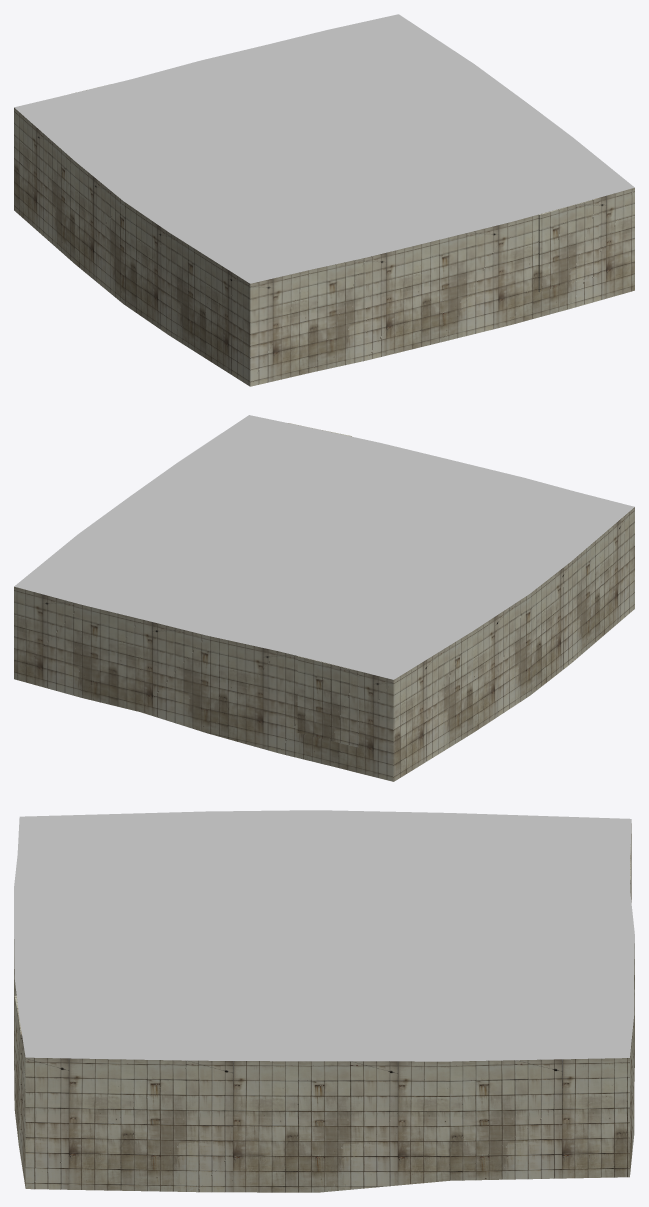
The model's file is SM_TheSamePlace_13_Block_00.fbx.
3 views of the same model, one above another, from view 1: azimuth 30°, elevation 25°; view 2: azimuth 150°, elevation 25°; view 3: azimuth 270°, elevation 25° (orthographic). The views are drawn at different scales.
Visible parts, largest first — view 1: SM_TheSamePlace_13_Block_00; view 2: SM_TheSamePlace_13_Block_00; view 3: SM_TheSamePlace_13_Block_00.
Boxes of the visible parts, x1,y1,x2,y2 form: SM_TheSamePlace_13_Block_00: [14, 14, 634, 386]; SM_TheSamePlace_13_Block_00: [14, 415, 634, 781]; SM_TheSamePlace_13_Block_00: [14, 810, 634, 1192].
Size of the model in its own units: 2679 by 653 by 2797.
